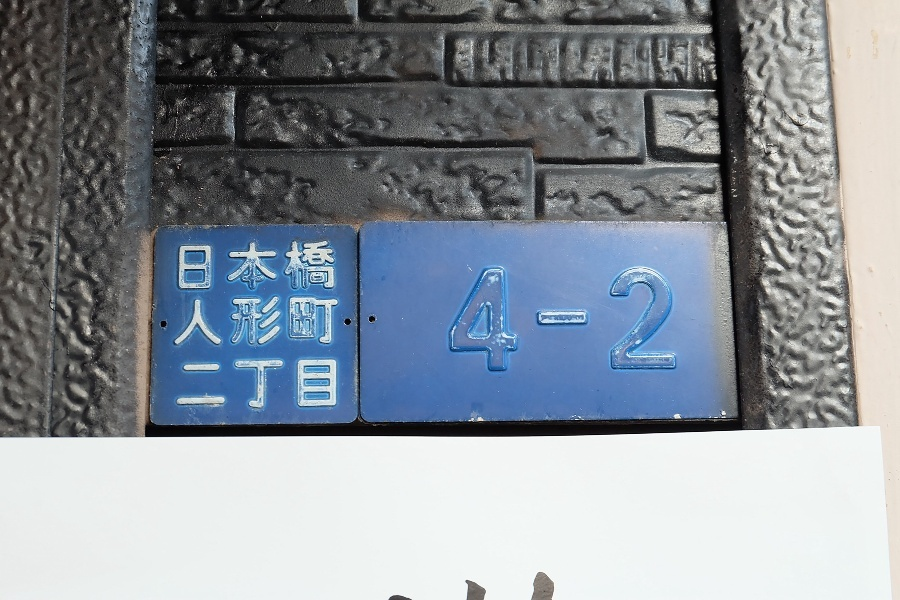text: (449, 268, 464, 370), (465, 268, 480, 370), (481, 268, 496, 370), (497, 268, 512, 370), (513, 268, 528, 370), (529, 268, 544, 370), (545, 268, 560, 370), (561, 268, 576, 370), (577, 268, 592, 370), (593, 268, 608, 370), (609, 268, 624, 370), (625, 268, 640, 370), (641, 268, 656, 370), (657, 268, 672, 370), (321, 359, 337, 409), (193, 240, 208, 290), (209, 240, 224, 290), (225, 240, 240, 290), (241, 240, 256, 290), (257, 240, 272, 290), (273, 240, 288, 290), (289, 240, 304, 290), (305, 240, 320, 290), (193, 359, 208, 409), (209, 359, 224, 409), (225, 359, 240, 409), (241, 359, 256, 409), (257, 359, 272, 409), (273, 359, 288, 409), (289, 359, 304, 409), (305, 359, 320, 409), (177, 296, 192, 345), (193, 296, 208, 345), (209, 296, 224, 345), (225, 296, 240, 345), (241, 296, 256, 345), (257, 296, 272, 345), (273, 296, 288, 345), (289, 296, 304, 345), (305, 296, 320, 345), (321, 296, 336, 345), (321, 240, 335, 290), (180, 240, 192, 290), (180, 359, 192, 409), (673, 268, 677, 370), (337, 296, 338, 345)
